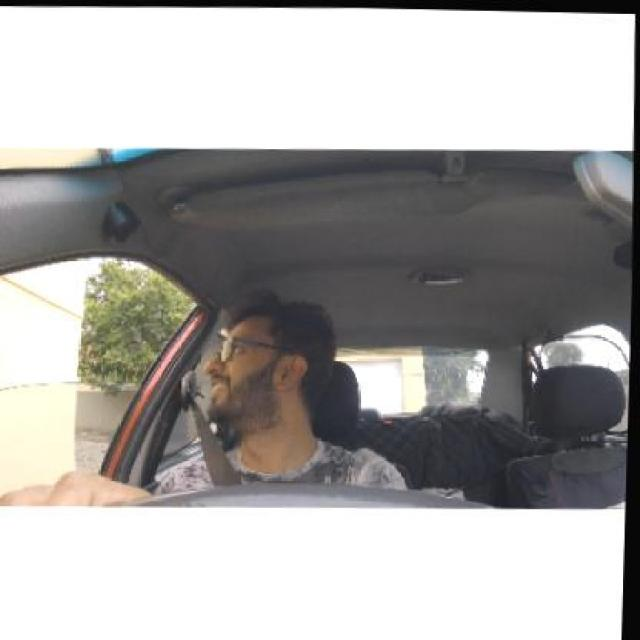LeftRight: (196, 284, 347, 462)
